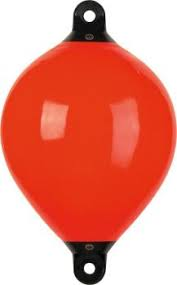buoy: (1, 40, 177, 244)
